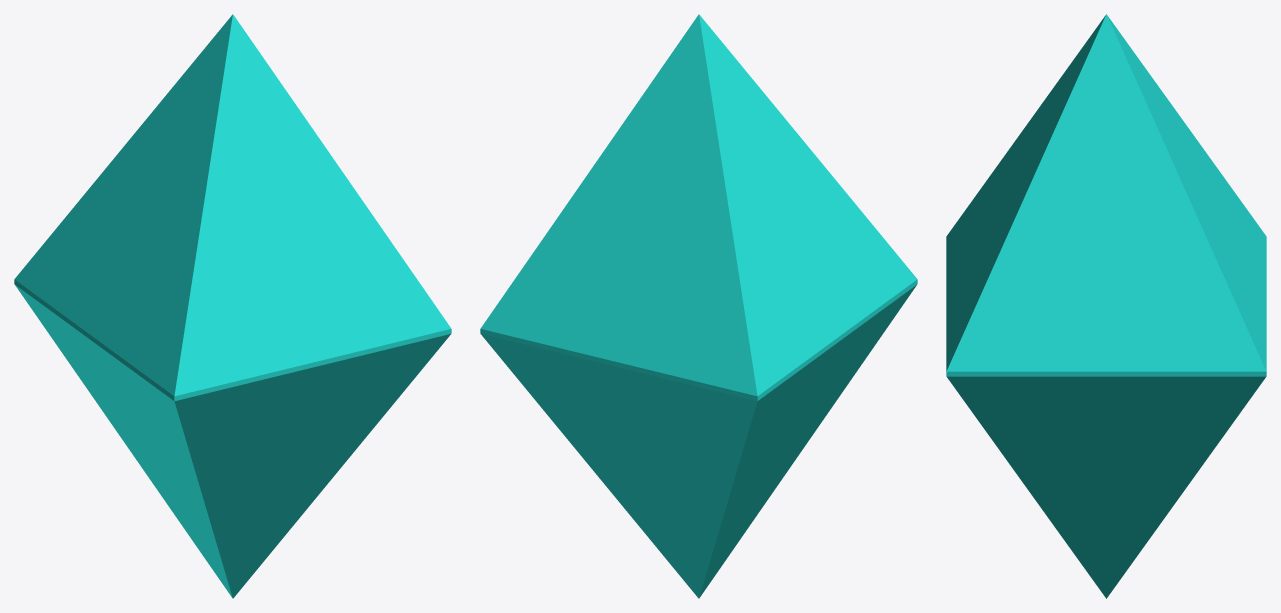
Rendered from Kristal.fbx.
The picture shows the model from 3 angles, left to right: view 1: azimuth 30°, elevation 25°; view 2: azimuth 150°, elevation 25°; view 3: azimuth 270°, elevation 25°; orthographic projection.
Parts seen in each view (by area): view 1: Cube; view 2: Cube; view 3: Cube.
Part boxes in pixels (left/top/right/bottom): Cube: left=14, top=14, right=451, bottom=598; Cube: left=480, top=14, right=917, bottom=598; Cube: left=946, top=14, right=1266, bottom=598.
Bounding box in the file's own units: 200 × 403 × 200.
